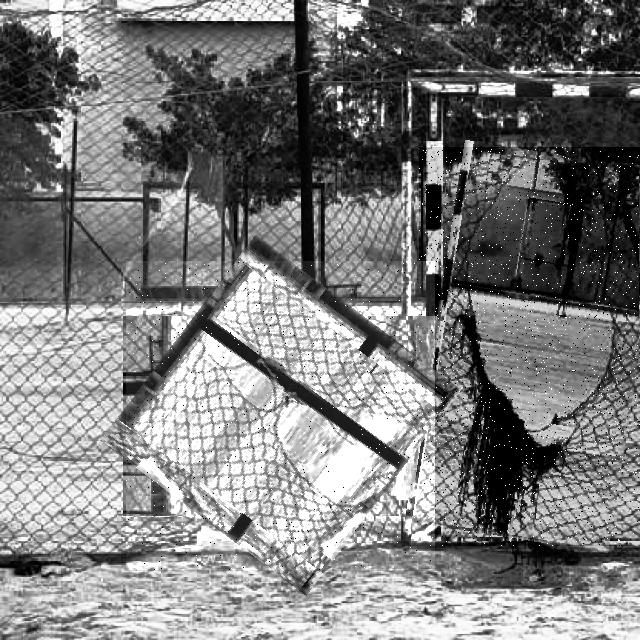anomaly-fence: (126, 261, 435, 570), (419, 147, 640, 546)
